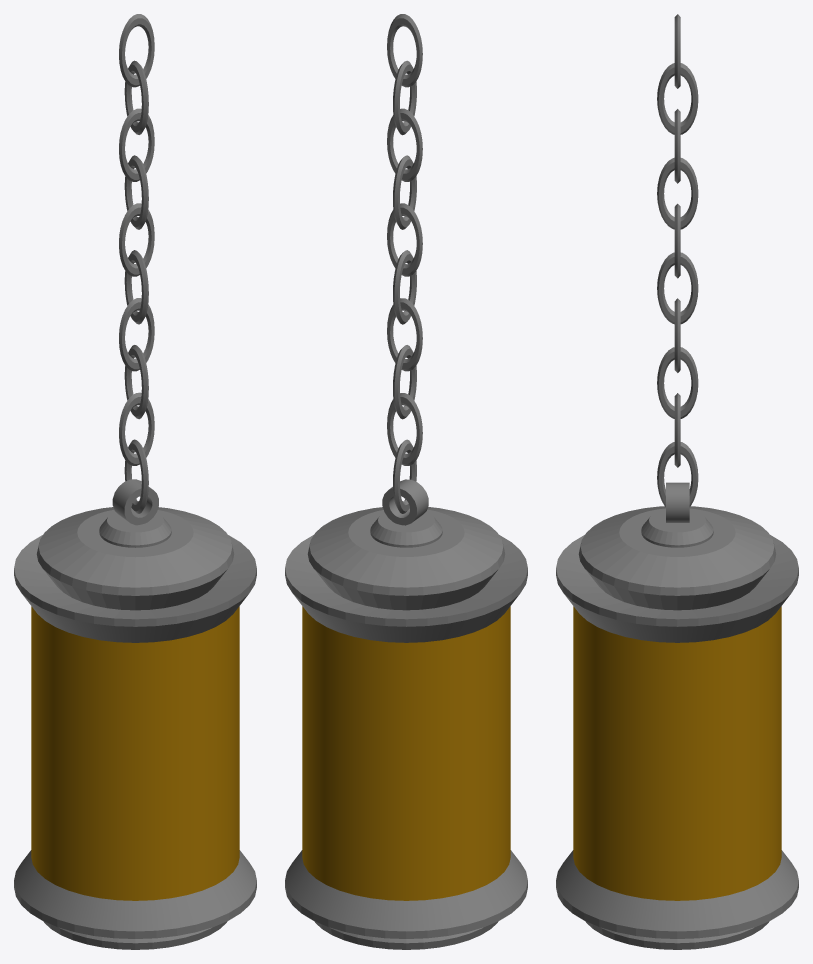
The model's file is LANTERN.fbx.
3 views of the same model, side by side, from view 1: azimuth 30°, elevation 25°; view 2: azimuth 150°, elevation 25°; view 3: azimuth 270°, elevation 25° (orthographic).
Visible parts, largest first — view 1: Cylinder001, Cylinder002, Cylinder003, Tube001, Circle010, Circle002, Circle008, Circle004, Circle006, Circle005, Circle007, Circle009 (+2 smaller); view 2: Cylinder001, Cylinder002, Cylinder003, Tube001, Circle010, Circle008, Circle006, Circle002, Circle004, Circle003, Circle009, Circle005 (+2 smaller); view 3: Cylinder001, Cylinder002, Cylinder003, Circle005, Circle007, Circle009, Circle003, Circle001, Tube001.
Part boxes in pixels (x1,y1,x2,y2): Cylinder001: (31,606,239,900); Cylinder002: (14,507,256,642); Cylinder003: (14,850,256,949); Tube001: (112,479,158,525); Circle010: (119,14,154,87); Circle002: (119,392,154,465); Circle008: (119,108,154,181); Circle004: (119,298,154,371); Circle006: (119,203,154,276); Circle005: (124,250,148,324); Circle007: (124,155,148,229); Circle009: (124,60,148,134); Cylinder001: (302,606,510,900); Cylinder002: (285,507,527,642); Cylinder003: (285,850,527,949); Tube001: (382,479,428,525); Circle010: (387,14,422,87); Circle008: (387,108,422,181); Circle006: (387,203,422,276); Circle002: (387,393,422,465); Circle004: (387,298,422,371); Circle003: (393,345,416,419); Circle009: (393,60,416,135); Circle005: (393,250,416,324); Cylinder001: (573,606,781,900); Cylinder002: (556,506,798,642); Cylinder003: (556,850,798,949); Circle005: (657,252,698,324); Circle007: (657,157,698,229); Circle009: (657,63,698,134); Circle003: (657,347,698,418); Circle001: (657,442,698,506); Tube001: (666,482,689,522).
Size of the model in its own units: 68.52 by 287 by 68.52.
